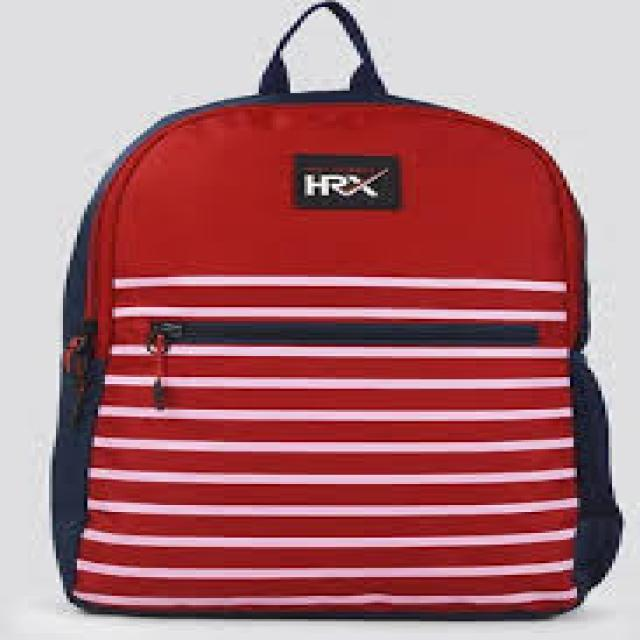backpack: (50, 1, 623, 620)
